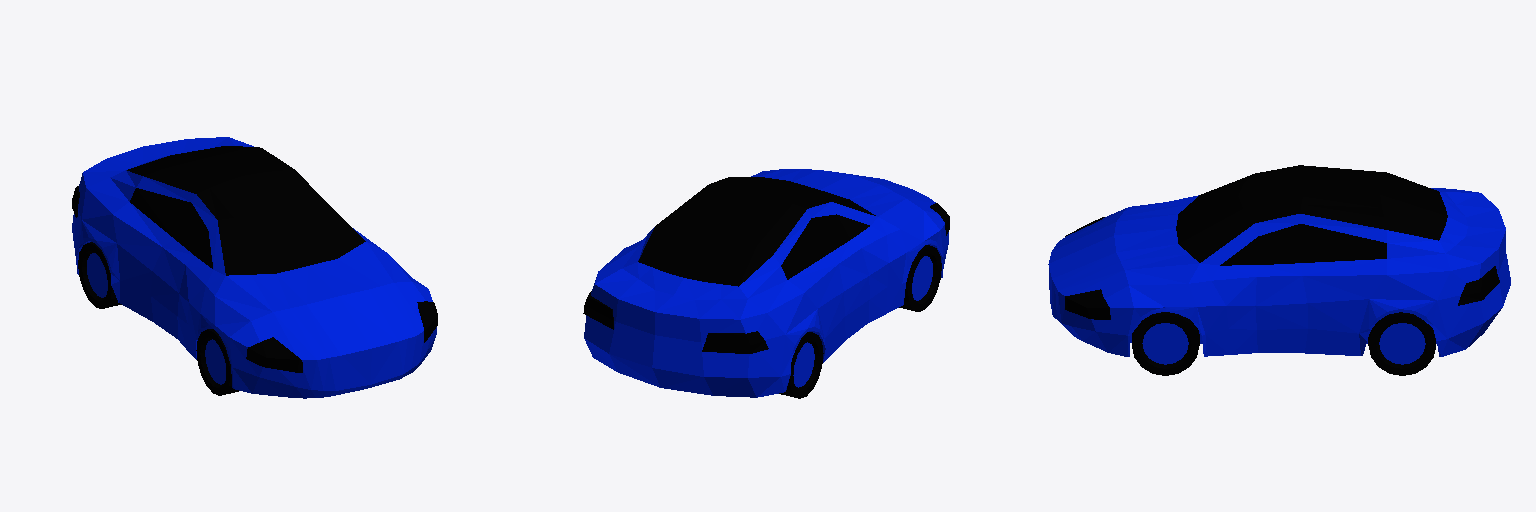
The model's file is map_navigation_car.obj.
3 views of the same model, side by side, from view 1: azimuth 30°, elevation 25°; view 2: azimuth 150°, elevation 25°; view 3: azimuth 270°, elevation 25° (orthographic).
Visible parts, largest first — view 1: map_navigation_car; view 2: map_navigation_car; view 3: map_navigation_car.
Boxes of the visible parts, <box> form: map_navigation_car: <box>72,137,437,398</box>; map_navigation_car: <box>583,169,949,398</box>; map_navigation_car: <box>1048,165,1510,375</box>.
Size of the model in its own units: 2.83 by 1.91 by 5.61.